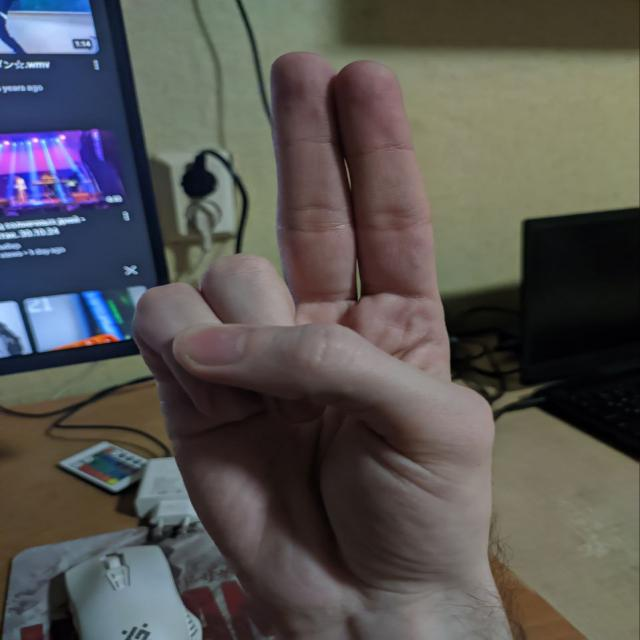ts: (142, 48, 517, 585)
